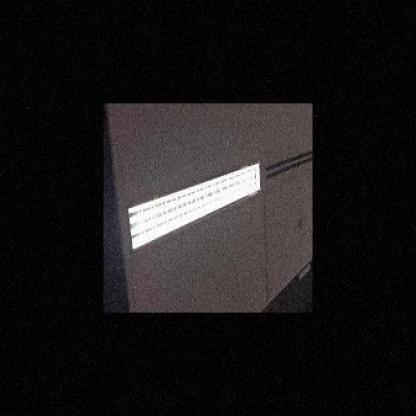light_on: (126, 154, 268, 259)
